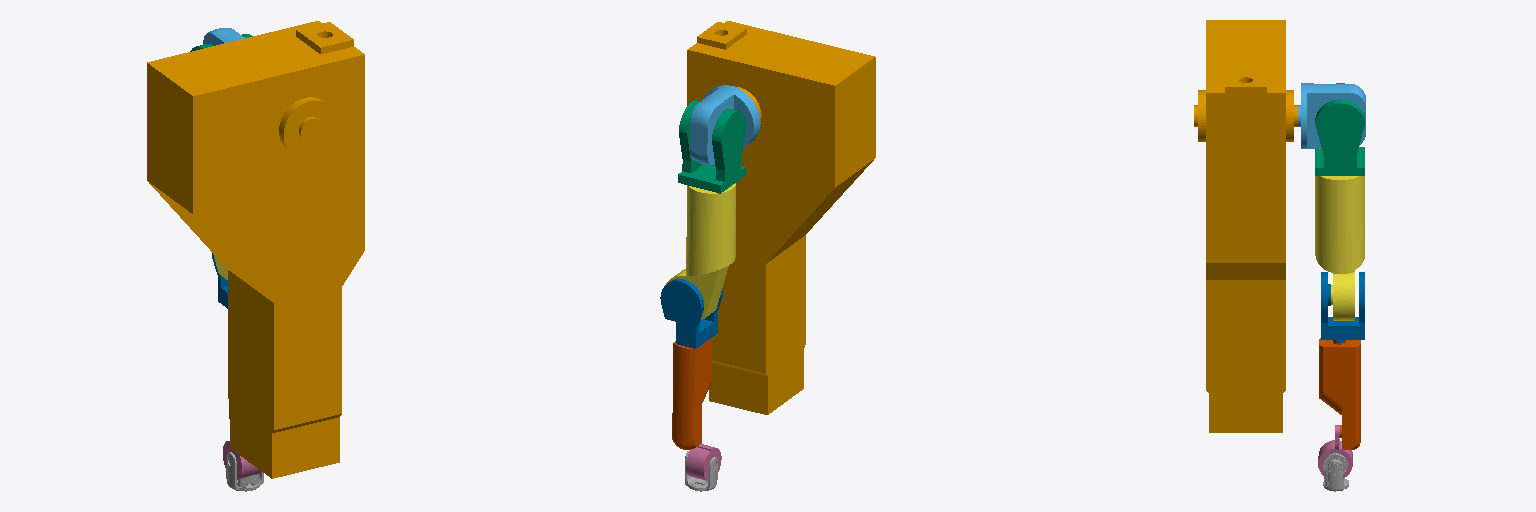
robot.urdf — feather_arm_left_8dof:
<?xml version='1.0' encoding='utf-8'?>
<robot name="feather_arm_left_8dof">
  <link name="torso_lift_link">
    <inertial>
      <origin xyz="-0.056545789435304396 1.2140065381960499e-17 0.4494172125754803" rpy="0 0 0"/>
      <mass value="16.82701287874279"/>
      <inertia ixx="0.796397" iyy="0.948342" izz="0.274579" ixy="0.0" iyz="0.0" ixz="0.093124"/>
    </inertial>
    <visual>
      <origin xyz="-0.0635 0.0 -0.8628" rpy="0 0 0"/>
      <geometry>
        <mesh filename="../meshes/torso_lift_link.stl" scale="0.001 0.001 0.001"/>
      </geometry>
    </visual>
    <collision>
      <origin xyz="-0.0635 0.0 -0.8628" rpy="0 0 0"/>
      <geometry>
        <mesh filename="../meshes/torso_lift_link.stl" scale="0.001 0.001 0.001"/>
      </geometry>
    </collision>
  </link>

  <link name="left_shoulder_pitch_link">
    <inertial>
      <origin xyz="-0.0018623020750937677 0.0662107798809815 -2.3403431862911717e-05" rpy="0 0 0"/>
      <mass value="2.615011497481059"/>
      <inertia ixx="0.00966" iyy="0.005821" izz="0.006896" ixy="-0.000389" iyz="-5e-06" ixz="3.5e-05"/>
    </inertial>
    <visual>
      <origin xyz="-0.0565 -0.1204 -1.45905" rpy="0 0 0"/>
      <geometry>
        <mesh filename="../meshes/left_shoulder_pitch_link.stl" scale="0.001 0.001 0.001"/>
      </geometry>
    </visual>
    <collision>
      <origin xyz="-0.0565 -0.1204 -1.45905" rpy="0 0 0"/>
      <geometry>
        <mesh filename="../meshes/left_shoulder_pitch_link.stl" scale="0.001 0.001 0.001"/>
      </geometry>
    </collision>
  </link>

  <joint name="SpL" type="revolute">
    <origin xyz="-0.007 0.1204 0.59625" rpy="0 0 0"/>
    <parent link="torso_lift_link"/>
    <child link="left_shoulder_pitch_link"/>
    <axis xyz="-0.0 -1.0 0.0"/>
    <limit upper="2.617994" lower="-2.617994" effort="100" velocity="100"/>
  </joint>

  <link name="left_shoulder_roll_link">
    <inertial>
      <origin xyz="0.02547698495632973 -1.0130837818644878e-07 -0.04850712885856656" rpy="0 0 0"/>
      <mass value="2.200236989303257"/>
      <inertia ixx="0.00879" iyy="0.010821" izz="0.005717" ixy="0.0" iyz="-0.0" ixz="0.000156"/>
    </inertial>
    <visual>
      <origin xyz="-0.029902 -0.2164 -1.458717" rpy="0 0 0"/>
      <geometry>
        <mesh filename="../meshes/left_shoulder_roll_link.stl" scale="0.001 0.001 0.001"/>
      </geometry>
    </visual>
    <collision>
      <origin xyz="-0.029902 -0.2164 -1.458717" rpy="0 0 0"/>
      <geometry>
        <mesh filename="../meshes/left_shoulder_roll_link.stl" scale="0.001 0.001 0.001"/>
      </geometry>
    </collision>
  </link>

  <joint name="SrL" type="revolute">
    <origin xyz="-0.026598 0.096 -0.000333" rpy="0 0 0"/>
    <parent link="left_shoulder_pitch_link"/>
    <child link="left_shoulder_roll_link"/>
    <axis xyz="0.999922 -0.0 0.012526"/>
    <limit upper="3.14" lower="-0.310669" effort="100" velocity="100"/>
  </joint>

  <link name="left_shoulder_yaw_link">
    <inertial>
      <origin xyz="0.01172834923926188 0.0021260450956747667 -0.15572094989173668" rpy="0 0 0"/>
      <mass value="2.547870739185924"/>
      <inertia ixx="0.02487" iyy="0.026075" izz="0.004652" ixy="-0.00014" iyz="0.000711" ixz="0.003678"/>
    </inertial>
    <visual>
      <origin xyz="-0.058135 -0.2164 -1.32856" rpy="0 0 0"/>
      <geometry>
        <mesh filename="../meshes/left_shoulder_yaw_link.stl" scale="0.001 0.001 0.001"/>
      </geometry>
    </visual>
    <collision>
      <origin xyz="-0.058135 -0.2164 -1.32856" rpy="0 0 0"/>
      <geometry>
        <mesh filename="../meshes/left_shoulder_yaw_link.stl" scale="0.001 0.001 0.001"/>
      </geometry>
    </collision>
  </link>

  <joint name="SwL" type="revolute">
    <origin xyz="0.028233 0.0 -0.130157" rpy="0 0 0"/>
    <parent link="left_shoulder_roll_link"/>
    <child link="left_shoulder_yaw_link"/>
    <axis xyz="-0.012526 2e-06 0.999922"/>
    <limit upper="2.216568" lower="-2.216568" effort="100" velocity="100"/>
  </joint>

  <link name="left_elbow_pitch_link">
    <inertial>
      <origin xyz="-0.005792309992671094 0.025960395596873964 -0.037281973502443666" rpy="0 0 0"/>
      <mass value="1.0618328442130995"/>
      <inertia ixx="0.003993" iyy="0.003023" izz="0.002202" ixy="1.2e-05" iyz="7.7e-05" ixz="-0.000299"/>
    </inertial>
    <visual>
      <origin xyz="-0.107841 -0.194399 -1.029123" rpy="0 0 0"/>
      <geometry>
        <mesh filename="../meshes/left_elbow_pitch_link.stl" scale="0.001 0.001 0.001"/>
      </geometry>
    </visual>
    <collision>
      <origin xyz="-0.107841 -0.194399 -1.029123" rpy="0 0 0"/>
      <geometry>
        <mesh filename="../meshes/left_elbow_pitch_link.stl" scale="0.001 0.001 0.001"/>
      </geometry>
    </collision>
  </link>

  <joint name="EpL" type="revolute">
    <origin xyz="0.049706 -0.022001 -0.299437" rpy="0 0 0"/>
    <parent link="left_shoulder_yaw_link"/>
    <child link="left_elbow_pitch_link"/>
    <axis xyz="0.0 1.0 -2e-06"/>
    <limit upper="1.57" lower="-2.6" effort="100" velocity="100"/>
  </joint>

  <link name="left_forearm_twist_link">
    <inertial>
      <origin xyz="0.001456756597643244 0.006405564899494676 -0.11371430988865561" rpy="0 0 0"/>
      <mass value="1.093161816249608"/>
      <inertia ixx="0.006128" iyy="0.005715" izz="0.001012" ixy="-8e-06" iyz="0.000663" ixz="6.8e-05"/>
    </inertial>
    <visual>
      <origin xyz="-0.109256 -0.215299 -0.916132" rpy="0 0 0"/>
      <geometry>
        <mesh filename="../meshes/left_forearm_twist_link.stl" scale="0.001 0.001 0.001"/>
      </geometry>
    </visual>
    <collision>
      <origin xyz="-0.109256 -0.215299 -0.916132" rpy="0 0 0"/>
      <geometry>
        <mesh filename="../meshes/left_forearm_twist_link.stl" scale="0.001 0.001 0.001"/>
      </geometry>
    </collision>
  </link>

  <joint name="WwL" type="revolute">
    <origin xyz="0.001415 0.0209 -0.112991" rpy="0 0 0"/>
    <parent link="left_elbow_pitch_link"/>
    <child link="left_forearm_twist_link"/>
    <axis xyz="-0.012526 2e-06 0.999922"/>
    <limit upper="2.792527" lower="-2.792527" effort="100" velocity="100"/>
  </joint>

  <link name="left_wrist_pitch_link">
    <inertial>
      <origin xyz="-0.024713619188186597 -0.009197982732339405 -0.0806208479243814" rpy="0 0 0"/>
      <mass value="0.5200372839685186"/>
      <inertia ixx="0.000535" iyy="0.000464" izz="0.00031" ixy="-5e-06" iyz="-9e-06" ixz="-5.2e-05"/>
    </inertial>
    <visual>
      <origin xyz="-0.112163 -0.215298 -0.6854" rpy="0 0 0"/>
      <geometry>
        <mesh filename="../meshes/left_wrist_pitch_link.stl" scale="0.001 0.001 0.001"/>
      </geometry>
    </visual>
    <collision>
      <origin xyz="-0.112163 -0.215298 -0.6854" rpy="0 0 0"/>
      <geometry>
        <mesh filename="../meshes/left_wrist_pitch_link.stl" scale="0.001 0.001 0.001"/>
      </geometry>
    </collision>
  </link>
  <joint name="WpL" type="revolute">
    <origin xyz="0.002907 -1e-06 -0.230732" rpy="0 0 0"/>
    <parent link="left_forearm_twist_link"/>
    <child link="left_wrist_pitch_link"/>
    <axis xyz="0.019507 0.99981 0.000242"/>
    <limit upper="1.832596" lower="-1.832596" effort="100" velocity="100"/>
  </joint>
  <joint name="WrL" type="revolute">
    <origin xyz="0.006 -0.01 -0.085" rpy="0 0 0"/>
    <parent link="left_wrist_pitch_link"/>
    <child link="wrist_left_two_link_1"/>
    <axis xyz="1.0 1e-06 -0.000189"/>
    <limit upper="1.832596" lower="-1.832596" effort="100" velocity="100"/>
  </joint>
     <joint name="arm_to_gripperL" type="fixed">
    <origin xyz="-0.025 0.005 -0.07" rpy="0 0 0"/>
    <parent link="wrist_left_two_link_1"/>
    <child link="left_gripper"/>
    <axis xyz="0 0 1"/>
    <limit upper="1.832596" lower="-1.832596" effort="100" velocity="100"/>
  </joint>

  <link name="wrist_left_two_link_1">
    <inertial>
      <origin xyz="-0.02623719787619644 -0.00046939929087979823 -0.010506102001406337" rpy="0 0 0"/>
      <mass value="1.4637321181057705"/>
      <inertia ixx="0.001106" iyy="0.00133" izz="0.000782" ixy="-2e-06" iyz="1.3e-05" ixz="8e-06"/>
    </inertial>
    <visual>
      <origin xyz="-0.245608 0.024713 -0.39051" rpy="0 0 0"/>
      <geometry>
        <mesh filename="../meshes/wrist_left_two_link_1.stl" scale="0.001 0.001 0.001"/>
      </geometry>
      <material name="silver"/>
    </visual>
    <collision>
      <origin xyz="-0.245608 0.024713 -0.39051" rpy="0 0 0"/>
      <geometry>
        <mesh filename="../meshes/wrist_left_two_link_1.stl" scale="0.001 0.001 0.001"/>
      </geometry>
    </collision>
  </link>
    <link name="left_gripper">
    <inertial>
      <origin xyz="-3.57066e-05 0.000249371 -0.0293133" rpy="0 0 0"/>
      <mass value="0.553219"/>
      <inertia ixx="0.000409686" iyy="0.000369758" izz="0.000324415" ixy="0.0" iyz="0.0" ixz="0.0"/>
    </inertial>
    <visual>
      <origin xyz="-0.014 -0.0463995 0.0731" rpy="0 0 0"/>
      <geometry>
        <mesh filename="../meshes/left_gripper.stl" scale="1 1 1"/>
      </geometry>
      <material name="silver"/>
    </visual>
    <collision>
      <origin xyz="-0.014 -0.0463995 0.0731" rpy="0 0 0"/>
      <geometry>
        <mesh filename="../meshes/left_gripper.stl" scale="1 1 1"/>
      </geometry>
    </collision>
  </link>

</robot>

--- Facts derived from the render (not from the file) ---
3 views of the same robot in one strip: view 1: azimuth 30°, elevation 25°; view 2: azimuth 150°, elevation 25°; view 3: azimuth 270°, elevation 25° (orthographic).
Model feather_arm_left_8dof with 9 links and 8 joints (7 revolute, 1 fixed), rooted at torso_lift_link, posed every joint at zero.
Visible links, largest first — view 1: torso_lift_link, wrist_left_two_link_1; view 2: torso_lift_link, left_shoulder_yaw_link, left_shoulder_roll_link, left_forearm_twist_link, left_shoulder_pitch_link, left_elbow_pitch_link, left_wrist_pitch_link, wrist_left_two_link_1; view 3: torso_lift_link, left_shoulder_yaw_link, left_forearm_twist_link, left_shoulder_roll_link, left_shoulder_pitch_link, left_elbow_pitch_link, wrist_left_two_link_1, left_wrist_pitch_link.
Link boxes in pixels (x1=…): torso_lift_link: x1=147, y1=21, x2=364, y2=478; wrist_left_two_link_1: x1=226, y1=452, x2=263, y2=491; torso_lift_link: x1=687, y1=21, x2=875, y2=414; left_shoulder_yaw_link: x1=666, y1=183, x2=735, y2=319; left_shoulder_roll_link: x1=678, y1=100, x2=745, y2=193; left_forearm_twist_link: x1=672, y1=338, x2=711, y2=449; left_shoulder_pitch_link: x1=690, y1=85, x2=760, y2=164; left_elbow_pitch_link: x1=660, y1=279, x2=722, y2=348; left_wrist_pitch_link: x1=686, y1=444, x2=721, y2=480; wrist_left_two_link_1: x1=685, y1=451, x2=717, y2=491; torso_lift_link: x1=1194, y1=20, x2=1297, y2=432; left_shoulder_yaw_link: x1=1315, y1=176, x2=1364, y2=320; left_forearm_twist_link: x1=1319, y1=338, x2=1360, y2=449; left_shoulder_roll_link: x1=1315, y1=83, x2=1364, y2=175; left_shoulder_pitch_link: x1=1298, y1=83, x2=1365, y2=148; left_elbow_pitch_link: x1=1321, y1=272, x2=1364, y2=342; wrist_left_two_link_1: x1=1323, y1=453, x2=1348, y2=491; left_wrist_pitch_link: x1=1318, y1=425, x2=1352, y2=477.
Size in the robot's own frame: 0.3956 by 0.3968 by 1.06 metres.
Meshes: 9 distinct files referenced, 8 mesh visuals loaded (8 binary STL); not drawn: 1 (reference not matched to a file when rendering).
